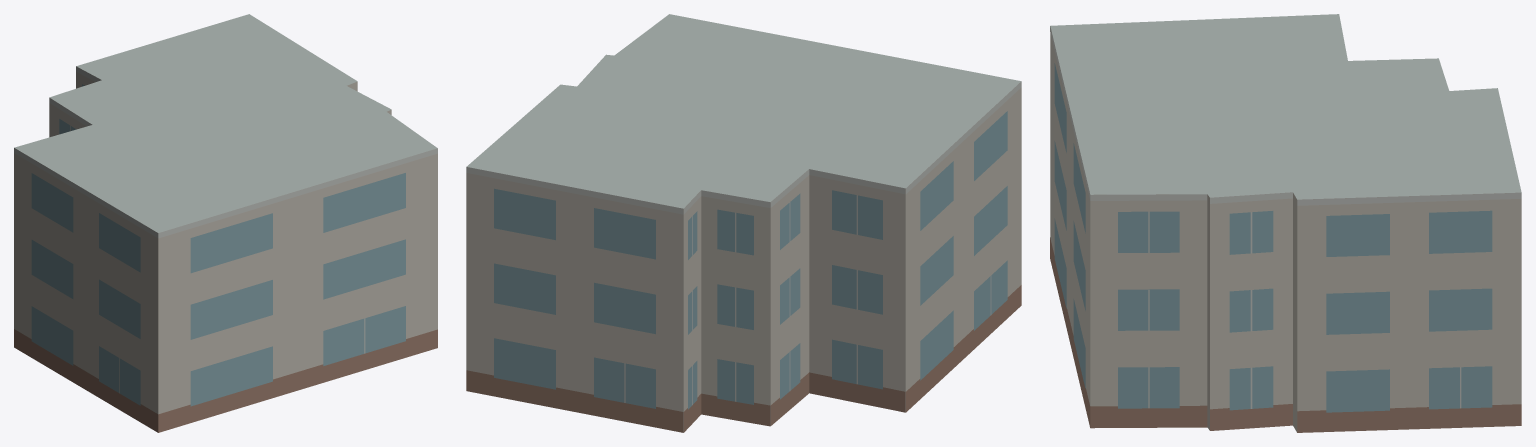
The model's file is survey-upis-32811779.glb.
3 views of the same model, side by side, from view 1: azimuth 30°, elevation 25°; view 2: azimuth 150°, elevation 25°; view 3: azimuth 270°, elevation 25° (orthographic). The views are drawn at different scales.
Parts seen in each view (by area): view 1: survey-upis-32811779.tmp; view 2: survey-upis-32811779.tmp; view 3: survey-upis-32811779.tmp.
Boxes of the visible parts, x1,y1,x2,y2 form: survey-upis-32811779.tmp: (14,14,437,432); survey-upis-32811779.tmp: (466,14,1021,432); survey-upis-32811779.tmp: (1050,14,1521,432).
Size of the model in its own units: 15.62 by 9.15 by 16.77.
